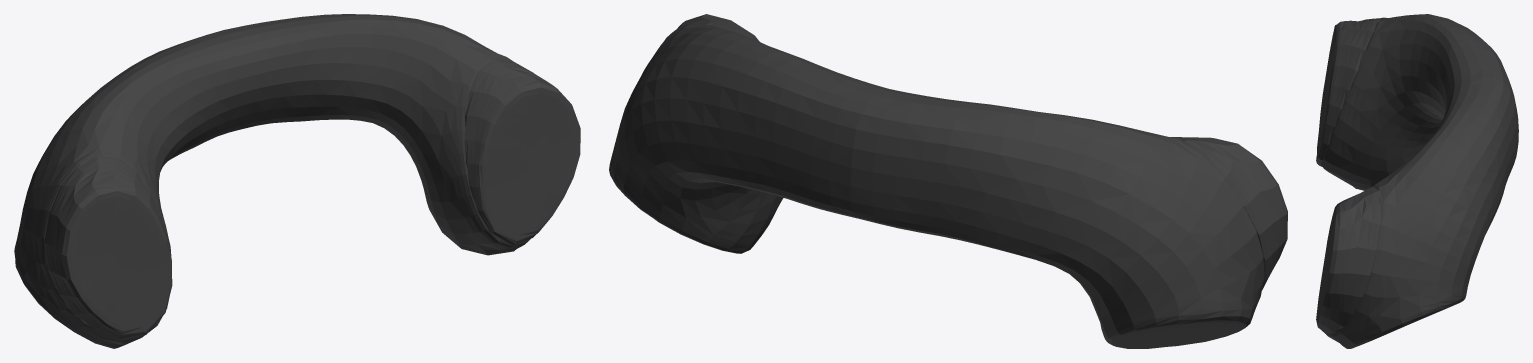
The model's file is hyoid_basihyoid_LO.glb.
The picture shows the model from 3 angles, left to right: view 1: azimuth 30°, elevation 25°; view 2: azimuth 150°, elevation 25°; view 3: azimuth 270°, elevation 25°; orthographic projection. The views are drawn at different scales.
Parts seen in each view (by area): view 1: hyoid_basihyoid_LO; view 2: hyoid_basihyoid_LO; view 3: hyoid_basihyoid_LO.
Part boxes in pixels (<box>): hyoid_basihyoid_LO: <box>14,14,580,348</box>; hyoid_basihyoid_LO: <box>609,14,1287,348</box>; hyoid_basihyoid_LO: <box>1316,14,1518,348</box>.
Size of the model in its own units: 0.2912 by 0.1166 by 0.1122.
1 material, 1 textured.
